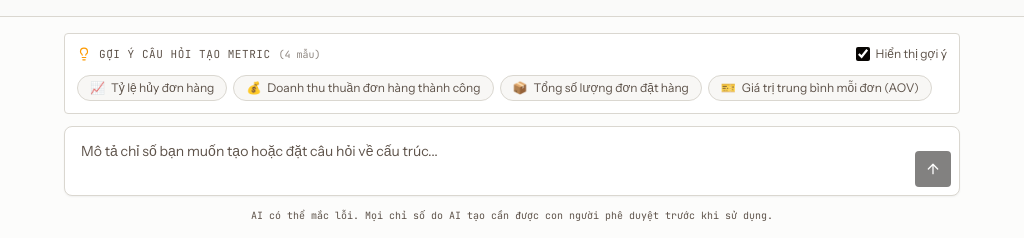
Scenario: StudioChatStream › prefills the input with a suggested prompt when clicked
Step 1. Click the text "Doanh thu thuần đơn hàng thành công" → point(374, 88), box [267,80,480,96]
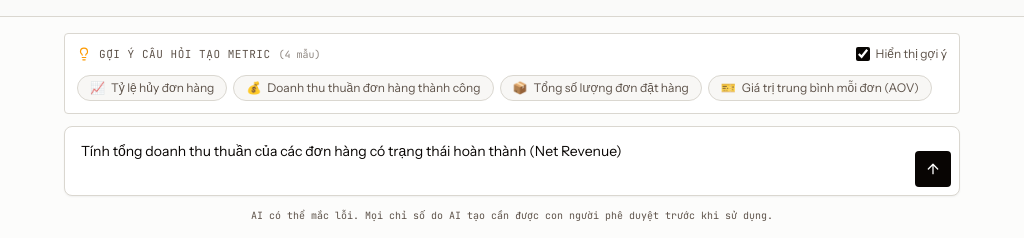
Expected: the text box with placeholder "Mô tả chỉ số bạn muốn tạo hoặc đặt câu hỏi về cấu trúc..." holds "Tính tổng doanh thu thuần của các đơn hàng có trạng thái hoàn thành (Net Revenue)", [73,134,907,186]
